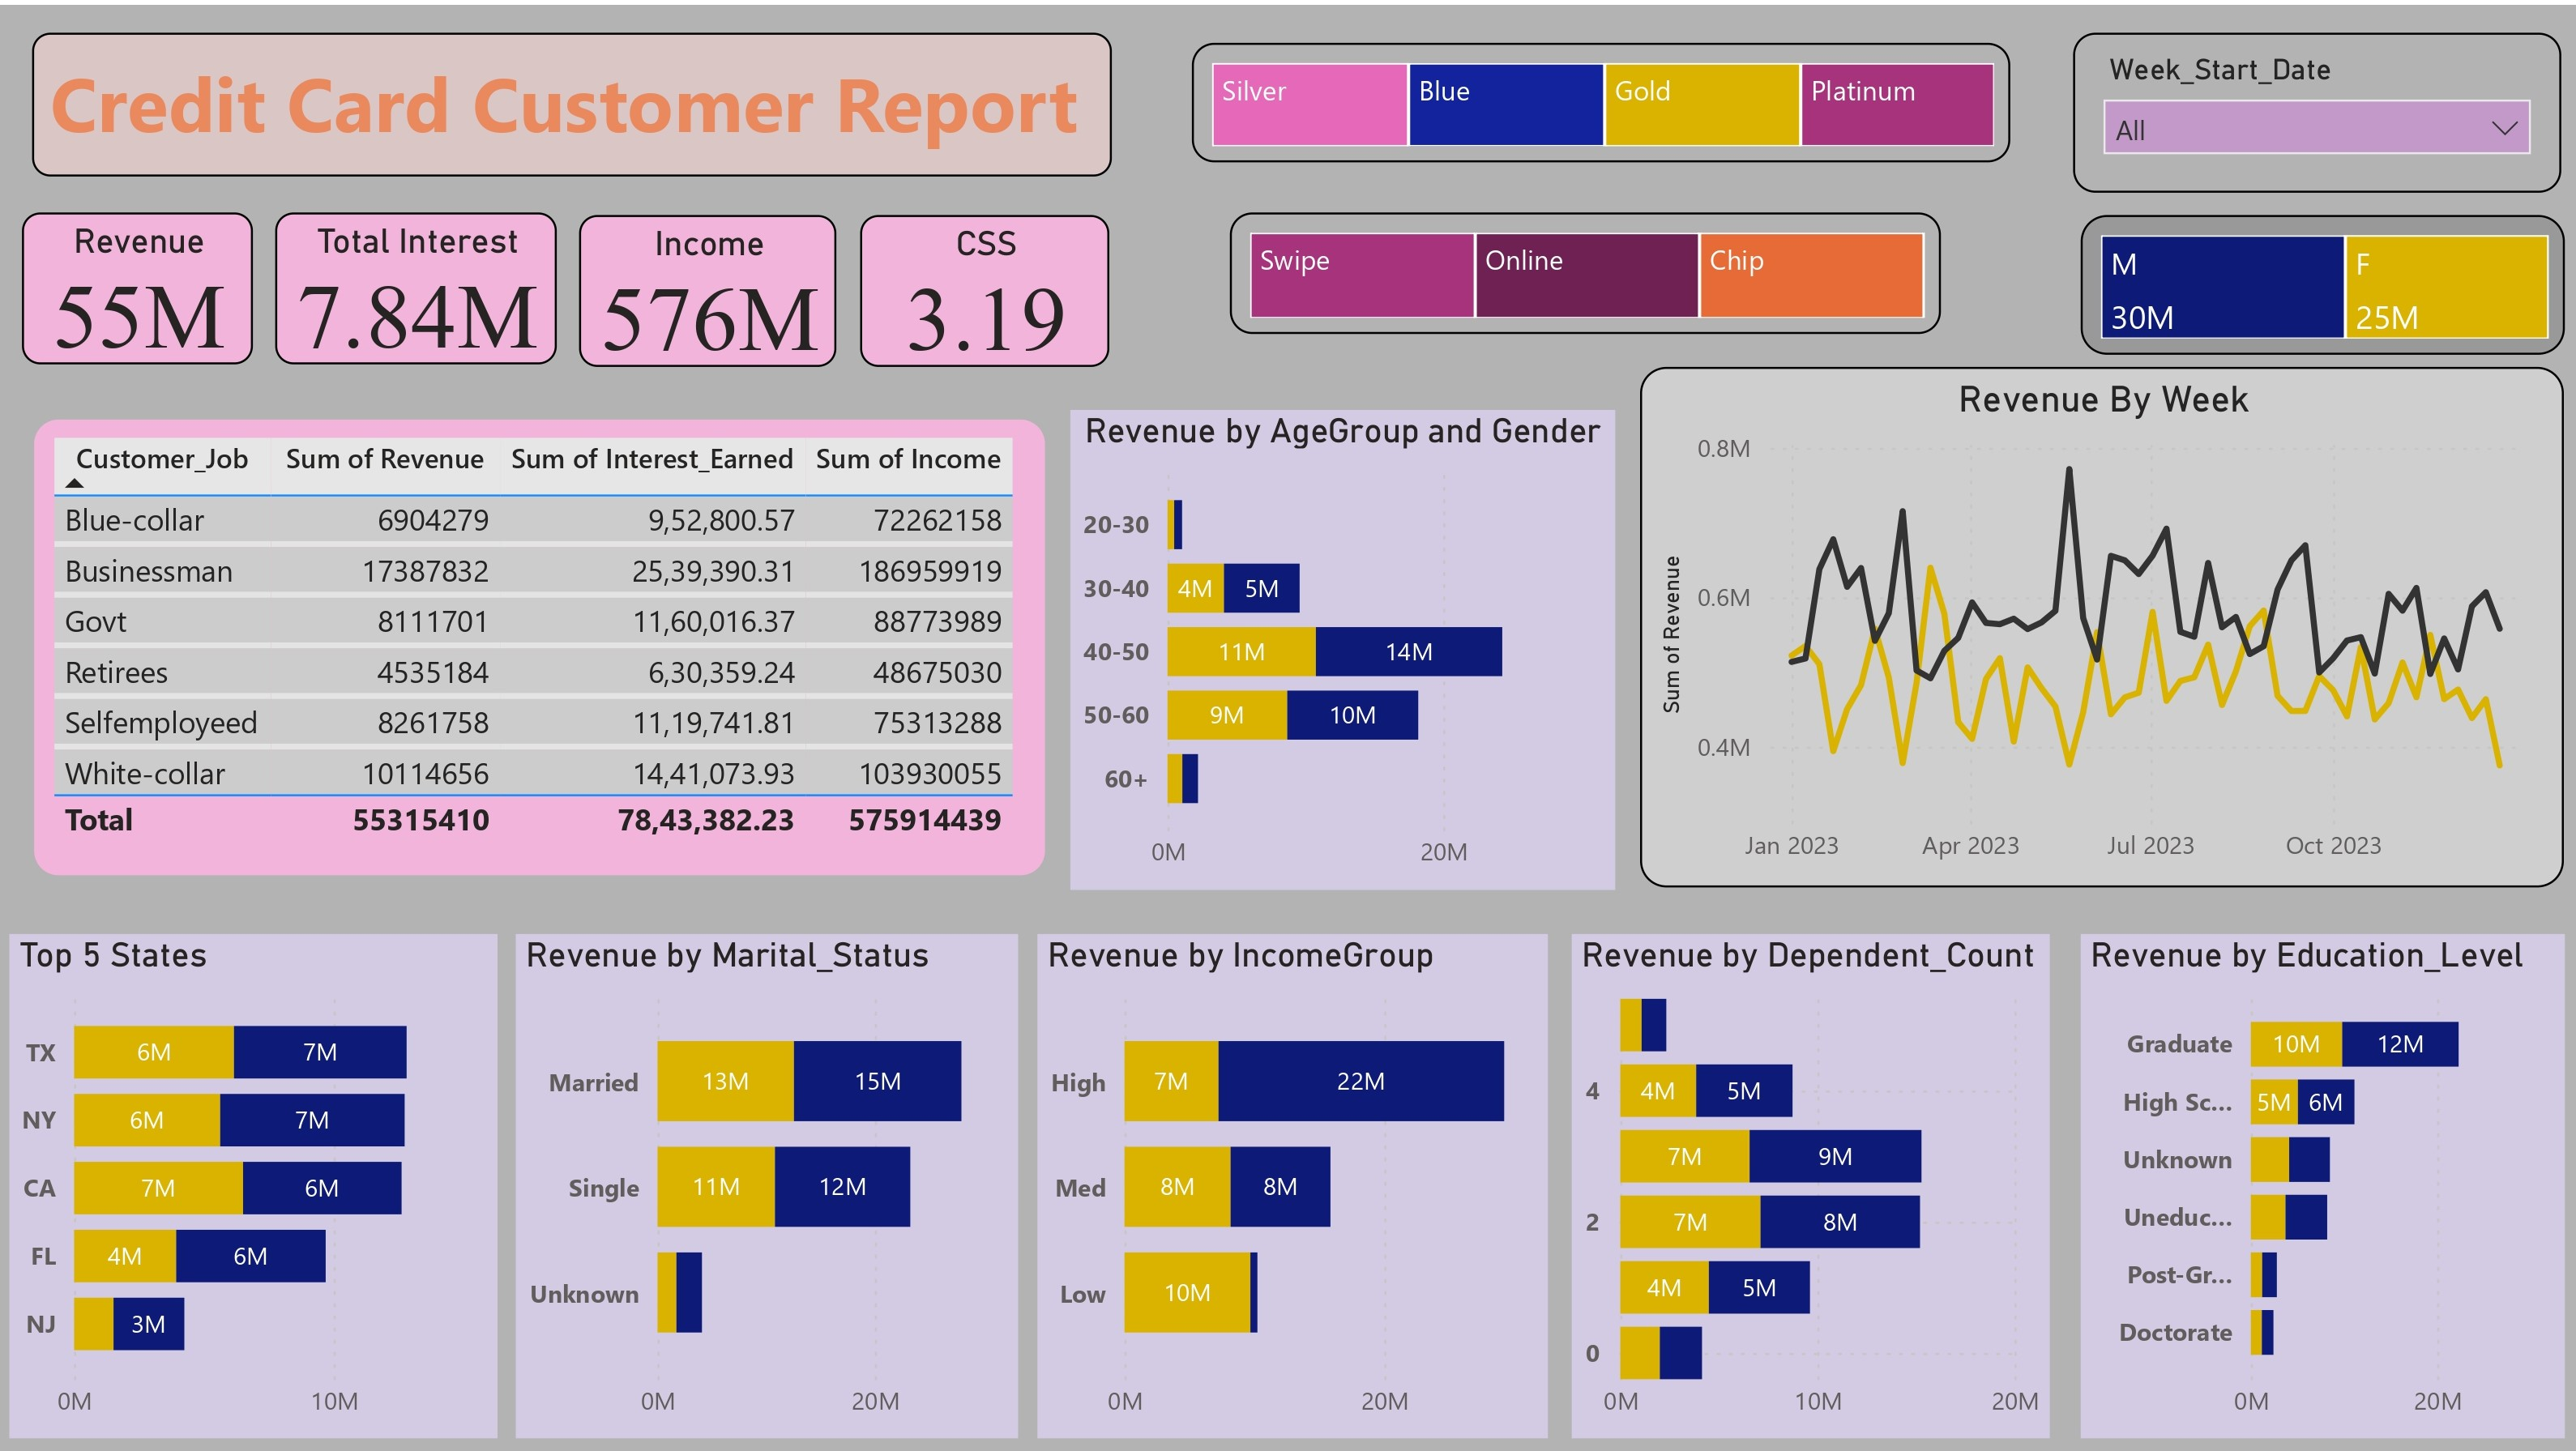

The page's visual inventory and layout, read from the dashboard file:
{"tool":"powerbi","page":{"name":"Customer Report","canvas":[1280,720],"ordinal":1},"visuals":[{"type":"textbox","box":[0,0,571.4,71.7],"z":0},{"type":"barChart","title":"Revenue by IncomeGroup","fields":{"Y":["Sum(credit_card.Revenue)"],"Category":["customer.IncomeGroup"],"Series":["customer.Gender"]},"box":[512.5,458.9,252.4,249],"z":1000},{"type":"tableEx","fields":{"Values":["customer.Customer_Job","Sum(credit_card.Revenue)","Sum(credit_card.Interest_Earned)","Sum(customer.Income)"]},"box":[15.6,214.4,486.9,222.2],"z":2000},{"type":"slicer","fields":{"Values":["credit_card.Week_Start_Date"]},"box":[1038.8,0,241.2,85.3],"z":3000},{"type":"treemap","fields":{"Values":["Avg(credit_card.Client_Num)"],"Group":["credit_card.Card_Category"]},"box":[738.1,5.6,273.6,59.2],"z":4000},{"type":"card","title":"Revenue","fields":{"Values":["Sum(credit_card.Revenue)"]},"box":[11.1,102.6,113.8,75.4],"z":5000},{"type":"card","title":"Total Interest","fields":{"Values":["Sum(credit_card.Interest_Earned)"]},"box":[136,102.6,138.5,75.4],"z":6000},{"type":"card","title":"Income","fields":{"Values":["Sum(customer.Income)"]},"box":[286.2,103.4,127.4,74.9],"z":7000},{"type":"card","title":"CSS","fields":{"Values":["Avg(customer.Cust_Satisfaction_Score)"]},"box":[425.6,103.4,122.9,74.9],"z":8000},{"type":"lineChart","title":"Revenue By Week","fields":{"Y":["Sum(credit_card.Revenue)"],"Series":["customer.Gender"],"Category":["credit_card.Week_Start_Date.Variation.Date Hierarchy.Year","credit_card.Week_Start_Date.Variation.Date Hierarchy.Month","credit_card.Week_Start_Date.Variation.Date Hierarchy.Day"]},"box":[810,179.3,456.3,257.2],"z":9000},{"type":"treemap","fields":{"Group":["customer.Gender"],"Values":["Sum(credit_card.Revenue)"]},"box":[1113.3,96,137.3,73.7],"z":10000},{"type":"barChart","fields":{"Y":["Sum(credit_card.Revenue)"],"Category":["customer.AgeGroup"],"Series":["customer.Gender"]},"box":[561.7,186.5,228.9,250.1],"z":11000},{"type":"barChart","title":"Revenue by Dependent_Count","fields":{"Y":["Sum(credit_card.Revenue)"],"Category":["customer.Dependent_Count"],"Series":["customer.Gender"]},"box":[776.1,458.9,235.6,249],"z":12000},{"type":"barChart","title":"Revenue by Education_Level","fields":{"Y":["Sum(credit_card.Revenue)"],"Category":["customer.Education_Level"],"Series":["customer.Gender"]},"box":[1027.3,458.9,239,249],"z":13000},{"type":"barChart","title":"Top 5 States","fields":{"Y":["Sum(credit_card.Revenue)"],"Category":["customer.state_cd"],"Series":["customer.Gender"]},"box":[4.5,458.9,241.2,249],"z":14000},{"type":"barChart","title":"Revenue by Marital_Status","fields":{"Y":["Sum(credit_card.Revenue)"],"Category":["customer.Marital_Status"],"Series":["customer.Gender"]},"box":[254.6,458.9,247.9,249],"z":15000},{"type":"treemap","fields":{"Values":["Avg(credit_card.Client_Num)"],"Group":["credit_card.Use Chip"]},"box":[738.1,72.6,274.7,60.3],"z":16000}]}

Visuals, with their boxes in screenshot pixels (x1, y1, x2, y2), scaled from the page's 1280x720 canvas onto the 2576x1451 screenshot:
textbox: bbox(0, 0, 1150, 144)
"Revenue by IncomeGroup" barChart: bbox(1032, 925, 1540, 1427)
tableEx - customer.Customer_Job x Sum(credit_card.Revenue): bbox(32, 432, 1011, 880)
slicer - credit_card.Week_Start_Date: bbox(2091, 0, 2575, 172)
treemap - Avg(credit_card.Client_Num) x credit_card.Card_Category: bbox(1485, 11, 2036, 130)
"Revenue" card: bbox(23, 207, 251, 359)
"Total Interest" card: bbox(274, 207, 553, 359)
"Income" card: bbox(576, 208, 832, 360)
"CSS" card: bbox(857, 208, 1104, 360)
"Revenue By Week" lineChart: bbox(1630, 361, 2548, 880)
treemap - customer.Gender x Sum(credit_card.Revenue): bbox(2241, 194, 2517, 342)
barChart - Sum(credit_card.Revenue) x customer.AgeGroup: bbox(1130, 376, 1591, 880)
"Revenue by Dependent_Count" barChart: bbox(1562, 925, 2036, 1427)
"Revenue by Education_Level" barChart: bbox(2067, 925, 2548, 1427)
"Top 5 States" barChart: bbox(9, 925, 494, 1427)
"Revenue by Marital_Status" barChart: bbox(512, 925, 1011, 1427)
treemap - Avg(credit_card.Client_Num) x credit_card.Use Chip: bbox(1485, 147, 2038, 268)
